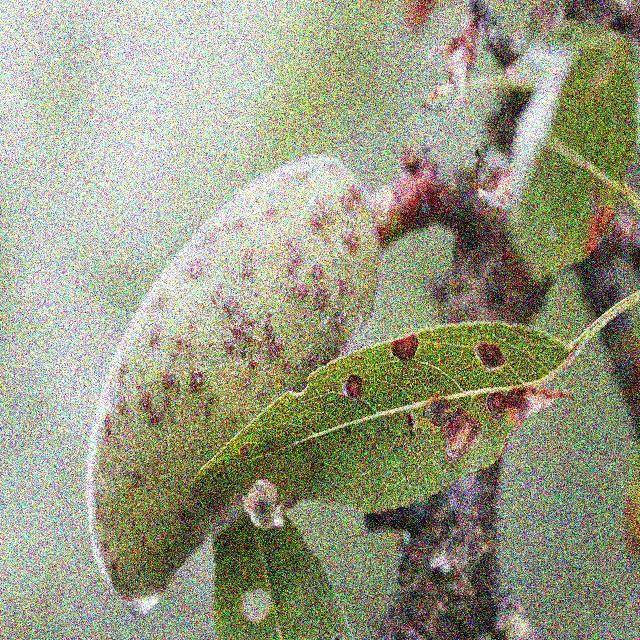shot_hole: (104, 147, 393, 472), (190, 324, 548, 505)
